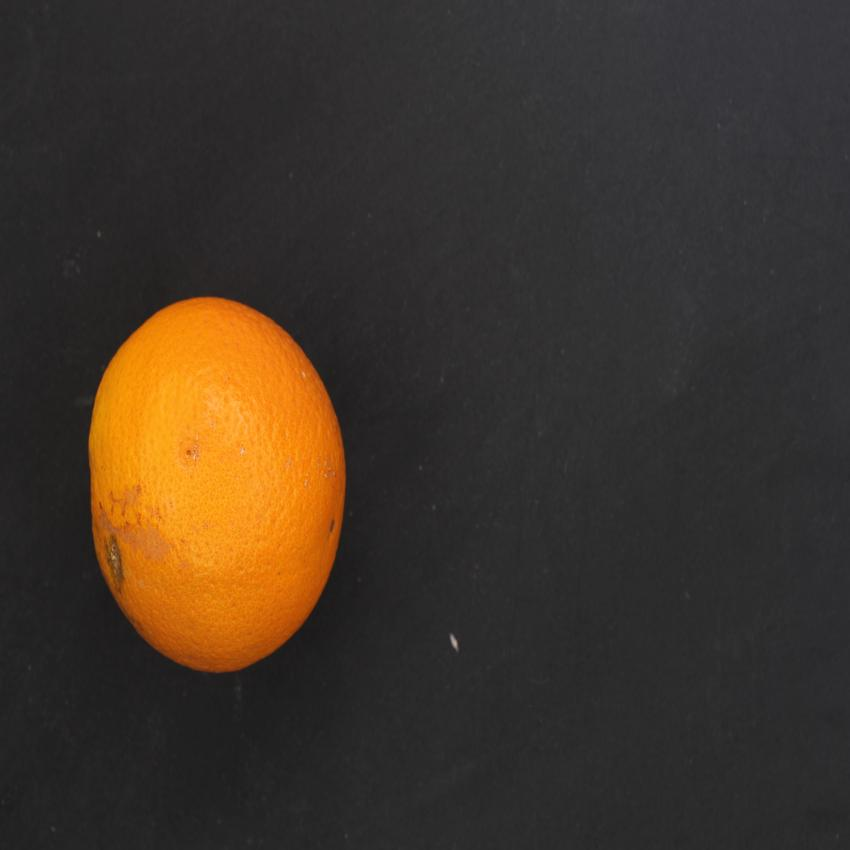Mal estado: (75, 277, 378, 687)
